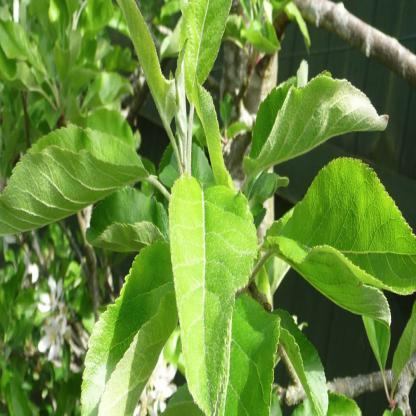Apple leaf: (262, 162, 416, 320), (162, 166, 258, 416), (236, 68, 396, 200), (0, 128, 156, 258), (77, 240, 183, 416)
